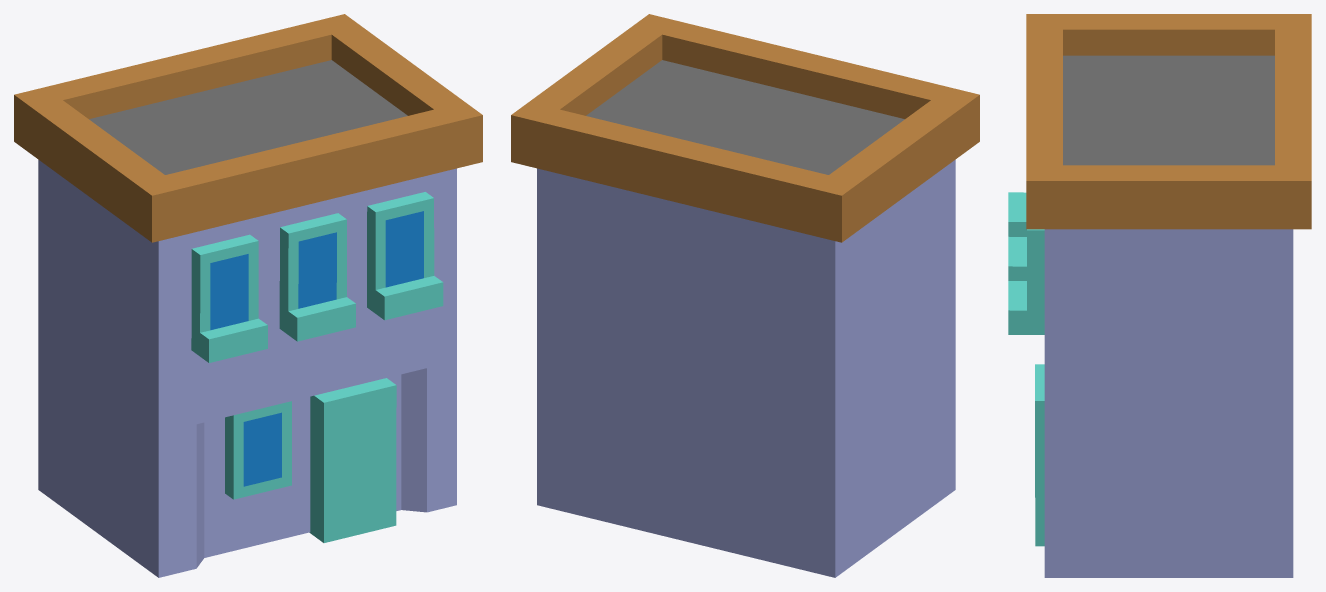
The model's file is shop01_s02.FBX.
3 views of the same model, side by side, from view 1: azimuth 30°, elevation 25°; view 2: azimuth 150°, elevation 25°; view 3: azimuth 270°, elevation 25° (orthographic). The views are drawn at different scales.
Visible parts, largest first — view 1: shop01_s02; view 2: shop01_s02; view 3: shop01_s02.
Part boxes in pixels (<box>): shop01_s02: <box>14,14,482,577</box>; shop01_s02: <box>511,14,979,577</box>; shop01_s02: <box>1008,14,1311,577</box>.
Size of the model in its own units: 470 by 362 by 535.
Materials: 1 (1 with a texture image).
